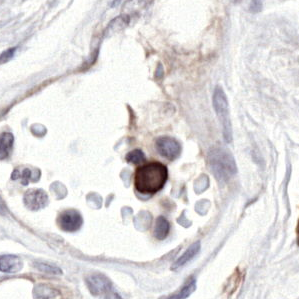Lymphocyte: (132, 159, 172, 195)
